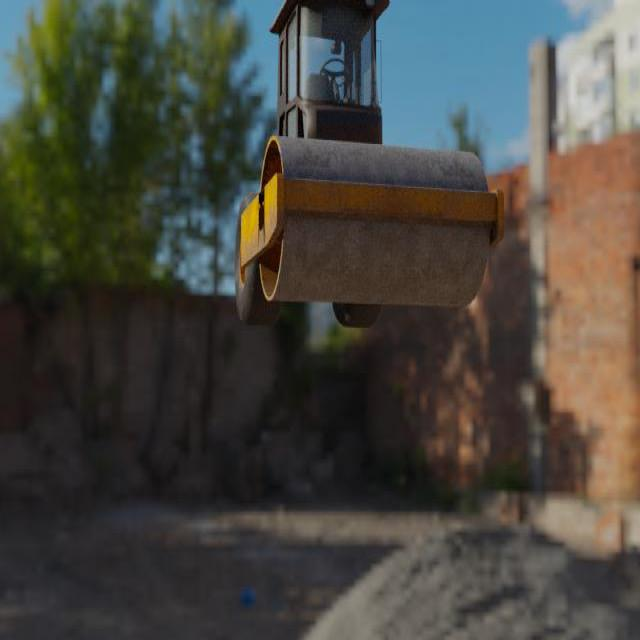Roller: (234, 0, 504, 329)
